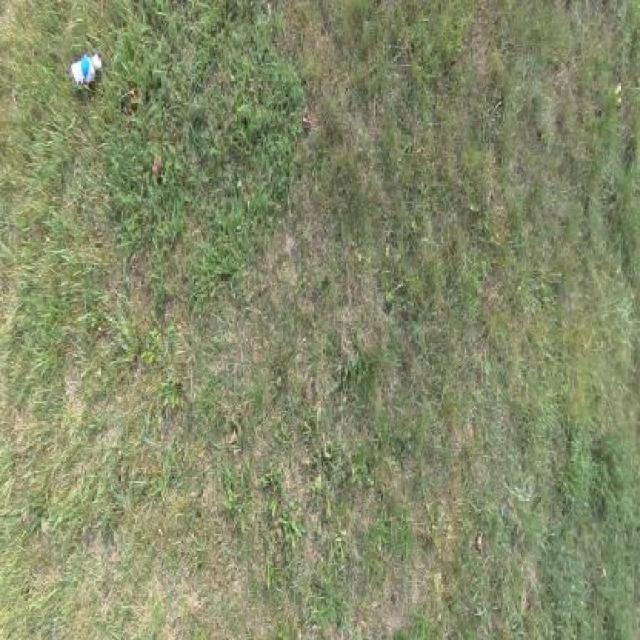Garbage: (69, 51, 101, 85)
